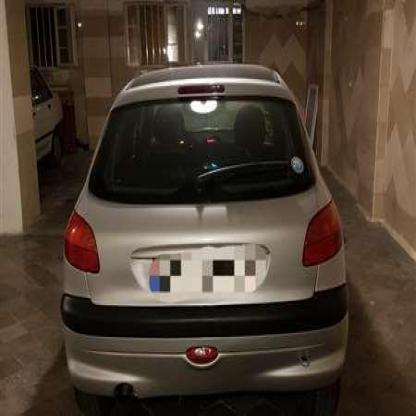Car: (41, 67, 358, 398), (33, 60, 69, 172)
